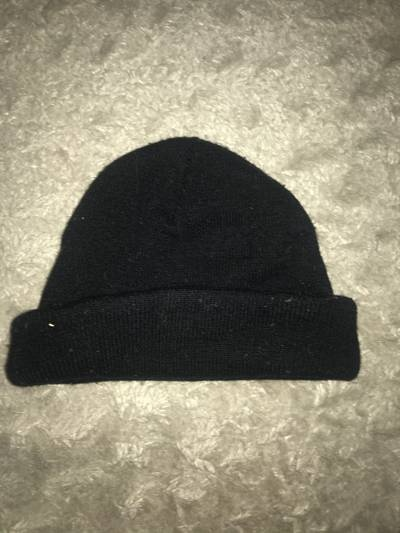Hat: (12, 99, 374, 408)
